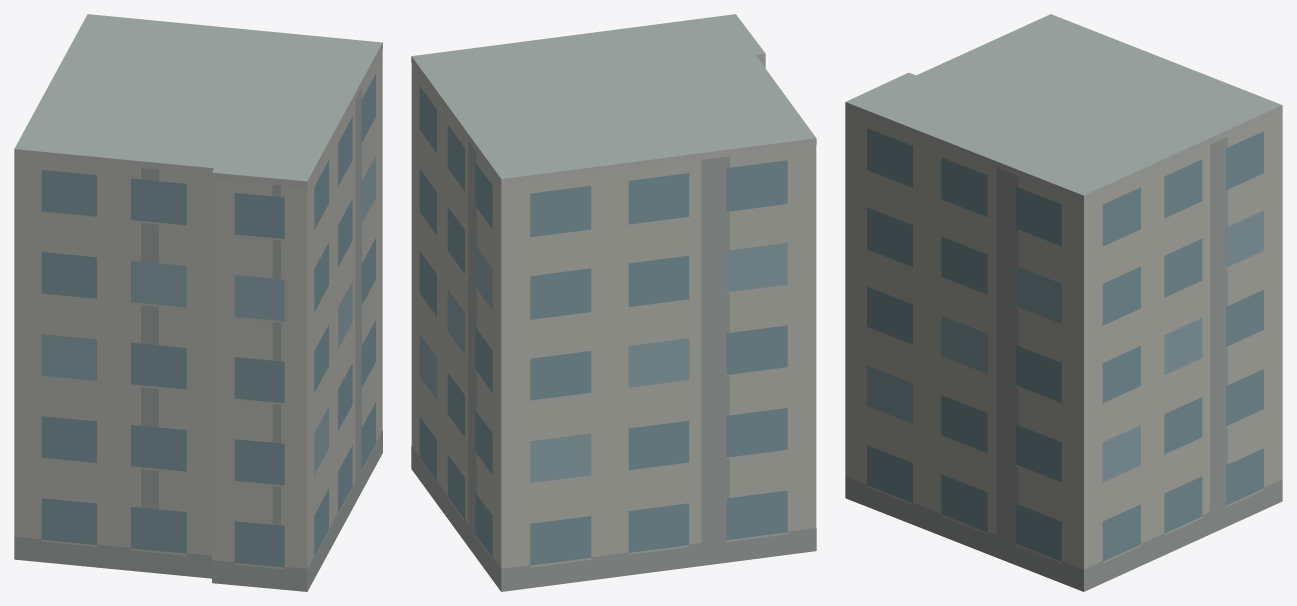
File: survey-upis-33036888.glb
3 views of the same model, side by side, from view 1: azimuth 30°, elevation 25°; view 2: azimuth 150°, elevation 25°; view 3: azimuth 270°, elevation 25° (orthographic). The views are drawn at different scales.
Parts seen in each view (by area): view 1: survey-upis-33036888.tmp; view 2: survey-upis-33036888.tmp; view 3: survey-upis-33036888.tmp.
Part boxes in pixels (x1,y1,x2,y2): survey-upis-33036888.tmp: (14, 14, 382, 591); survey-upis-33036888.tmp: (411, 14, 816, 591); survey-upis-33036888.tmp: (845, 14, 1282, 591).
Size of the model in its own units: 14.66 by 14.9 by 14.91.
